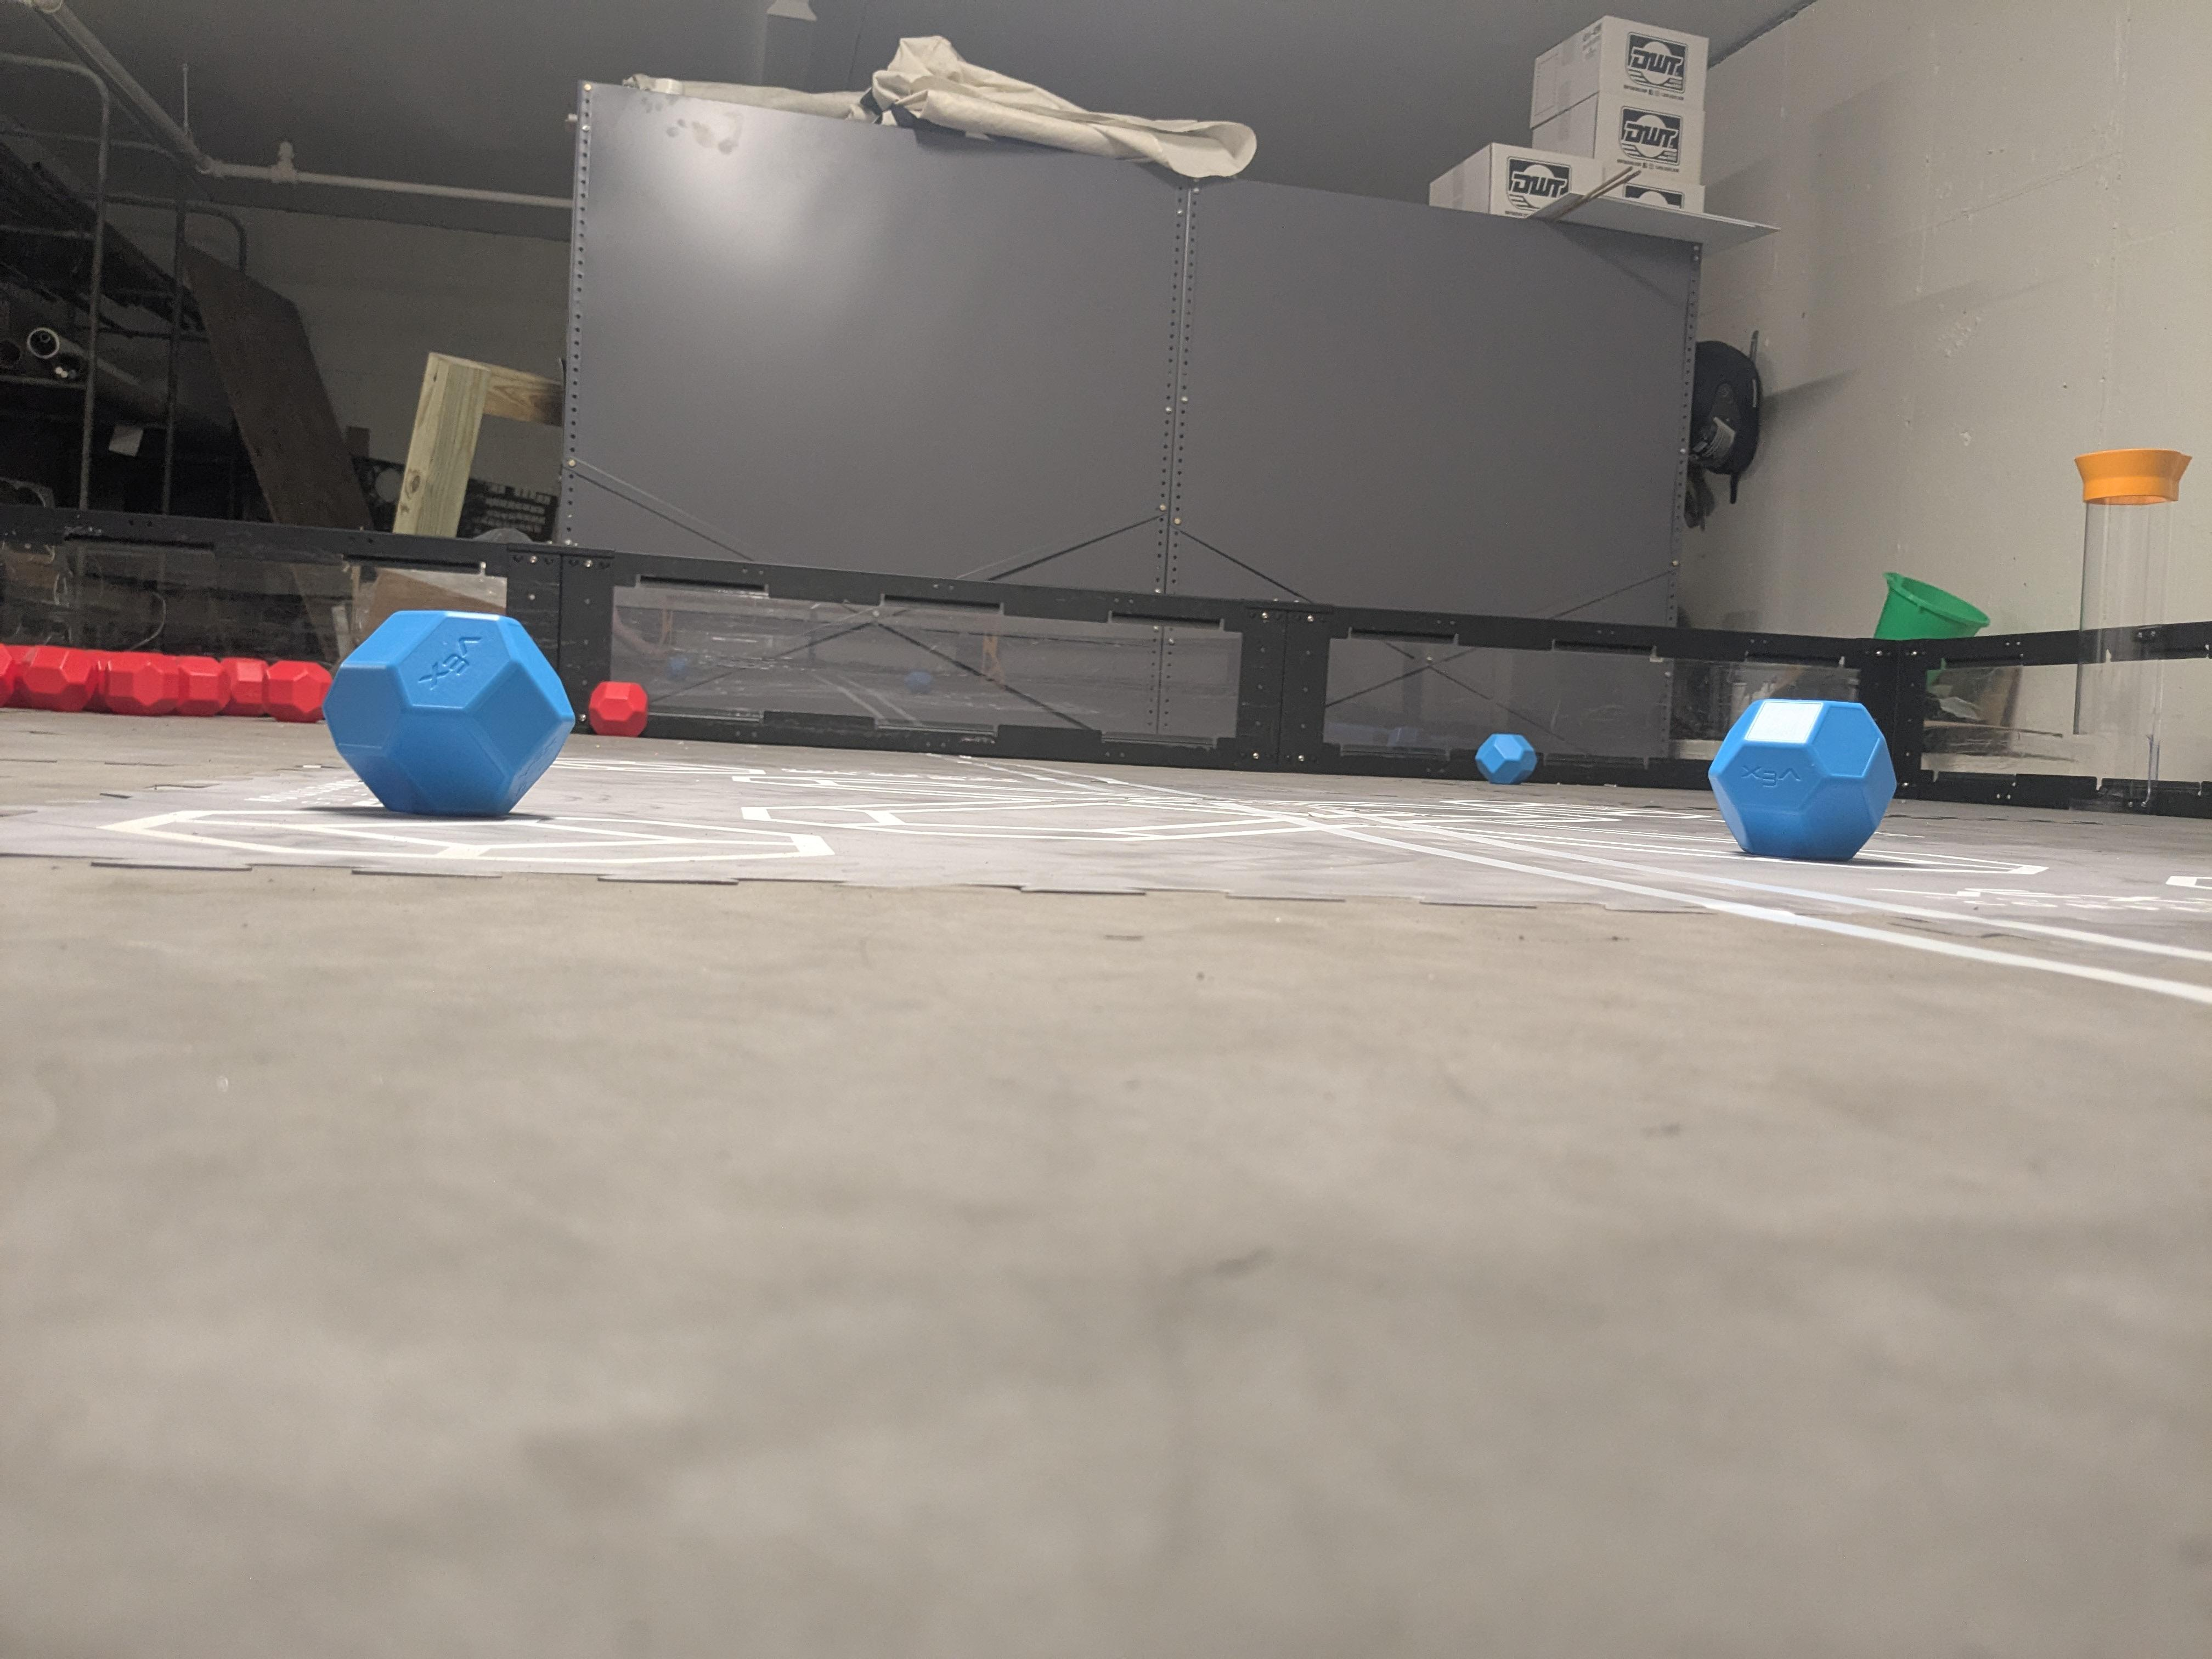Vex-Pieces-BLUE: (327, 608, 580, 814), (1707, 697, 1893, 861), (1475, 734, 1538, 784)
